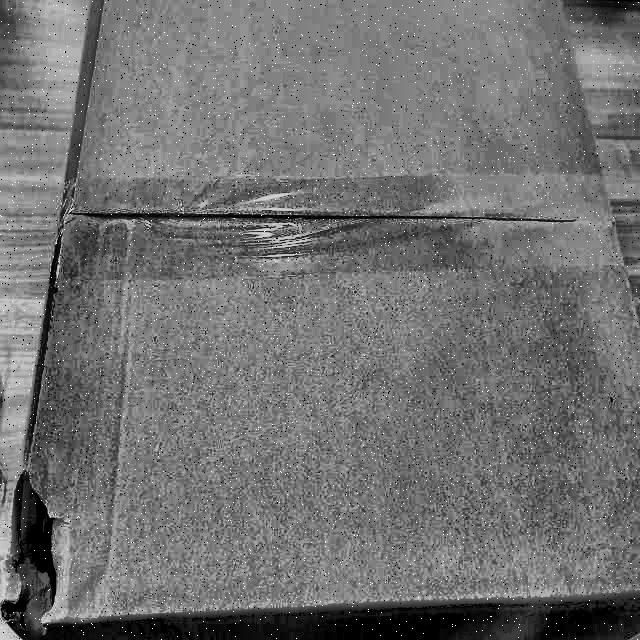box: (0, 1, 639, 638)
hole: (2, 468, 70, 630)
